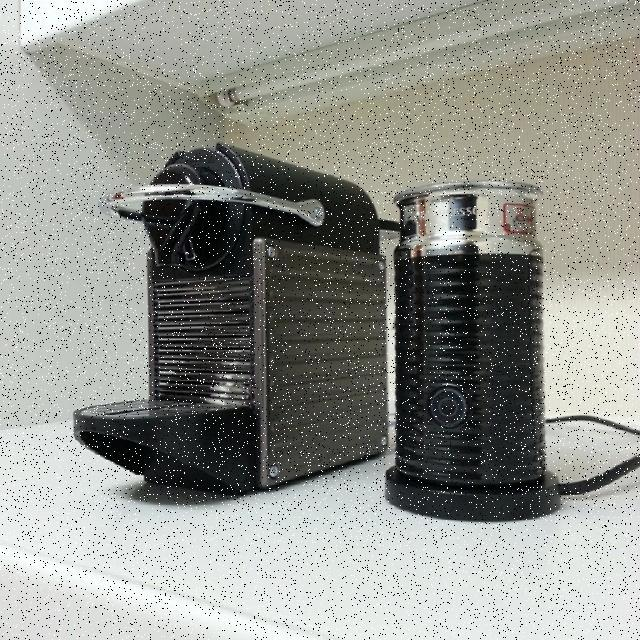Coffee-Machine: (49, 124, 394, 492)
